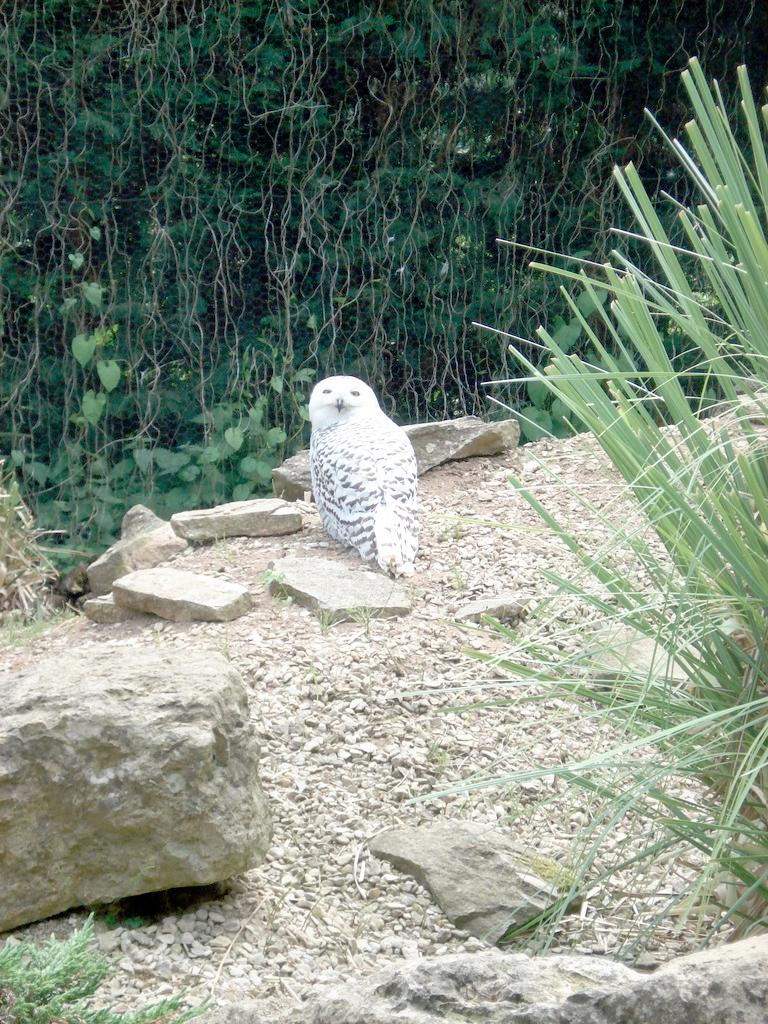Owl: (308, 378, 422, 580)
